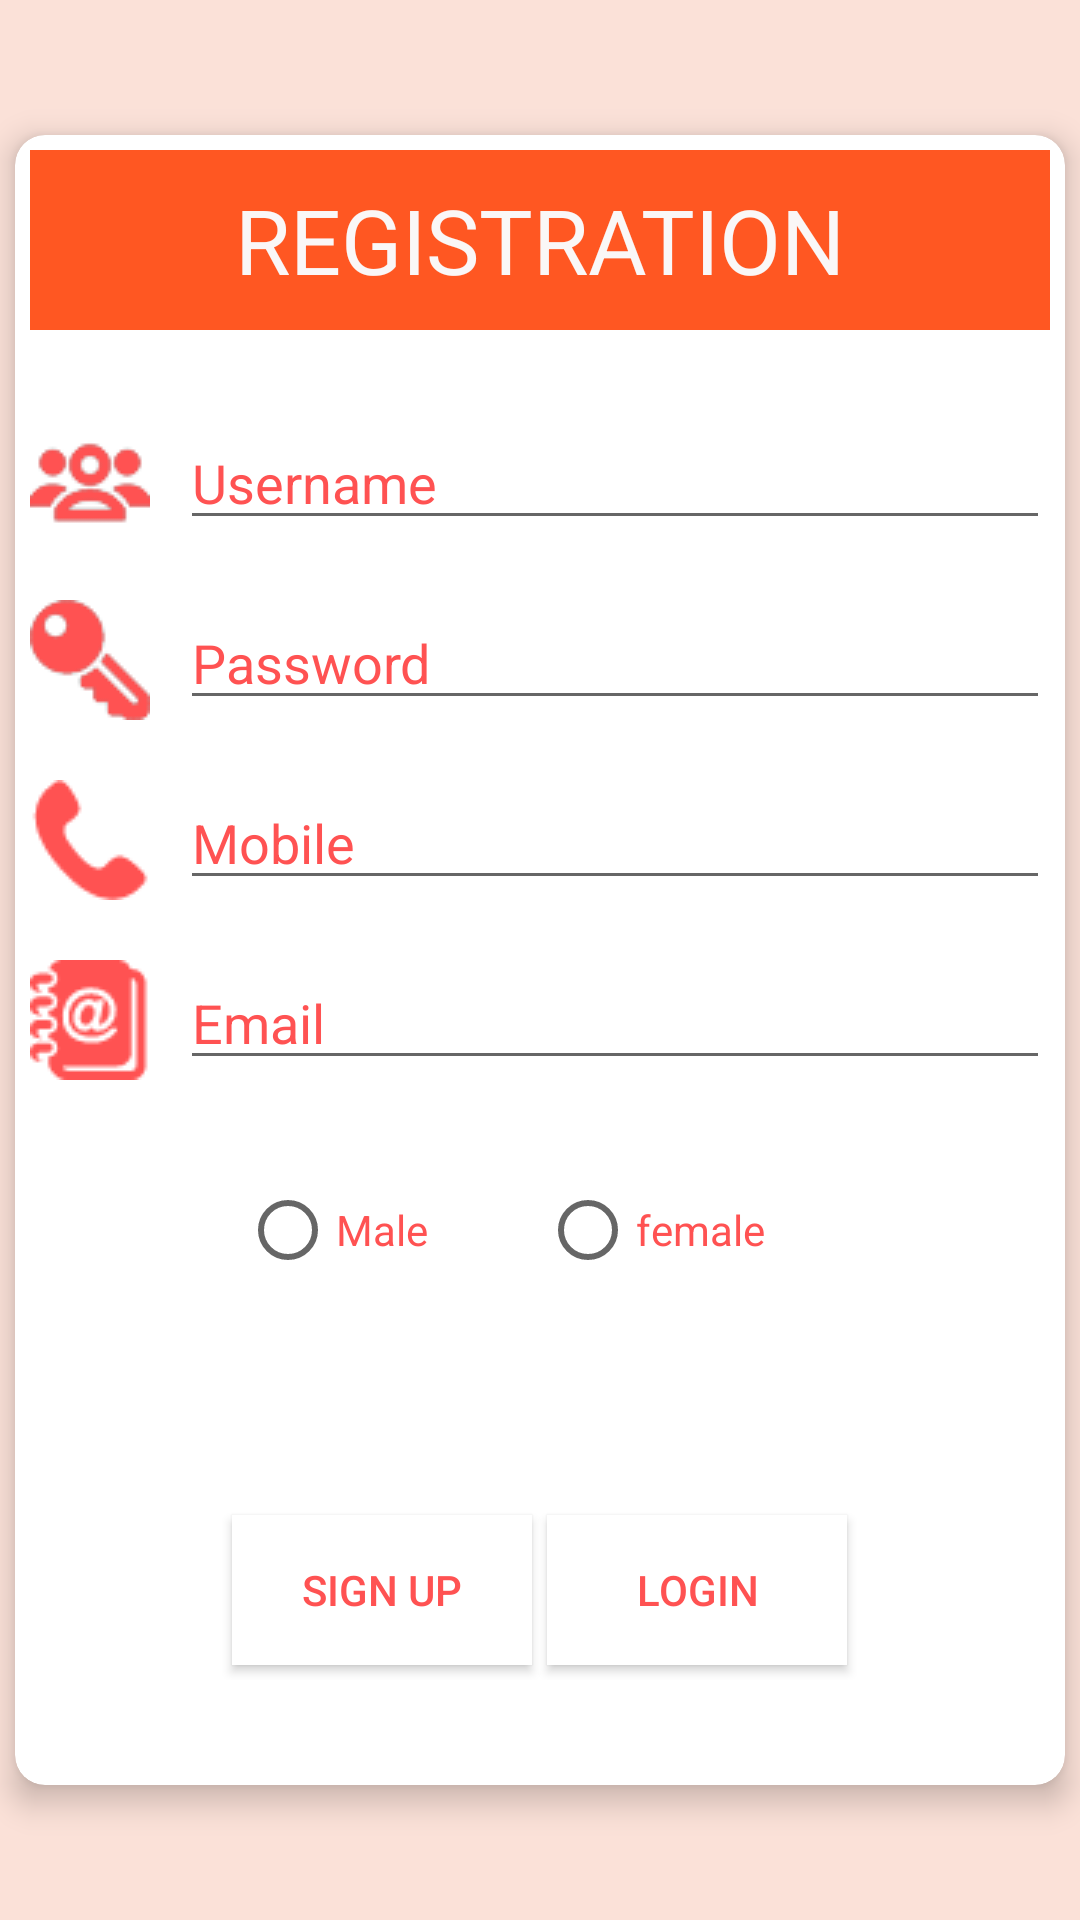

Icons on this 1080w x 1920h Android screen, each with its box as (x1, y1, x2, y2):
key: (30, 600, 150, 720)
phone: (33, 780, 148, 900)
